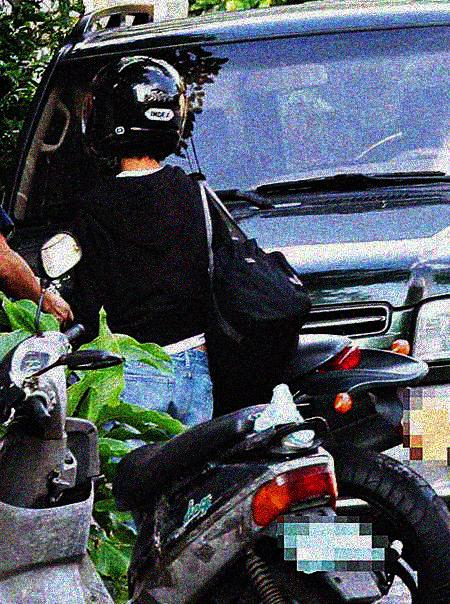helmet: (85, 58, 189, 168)
